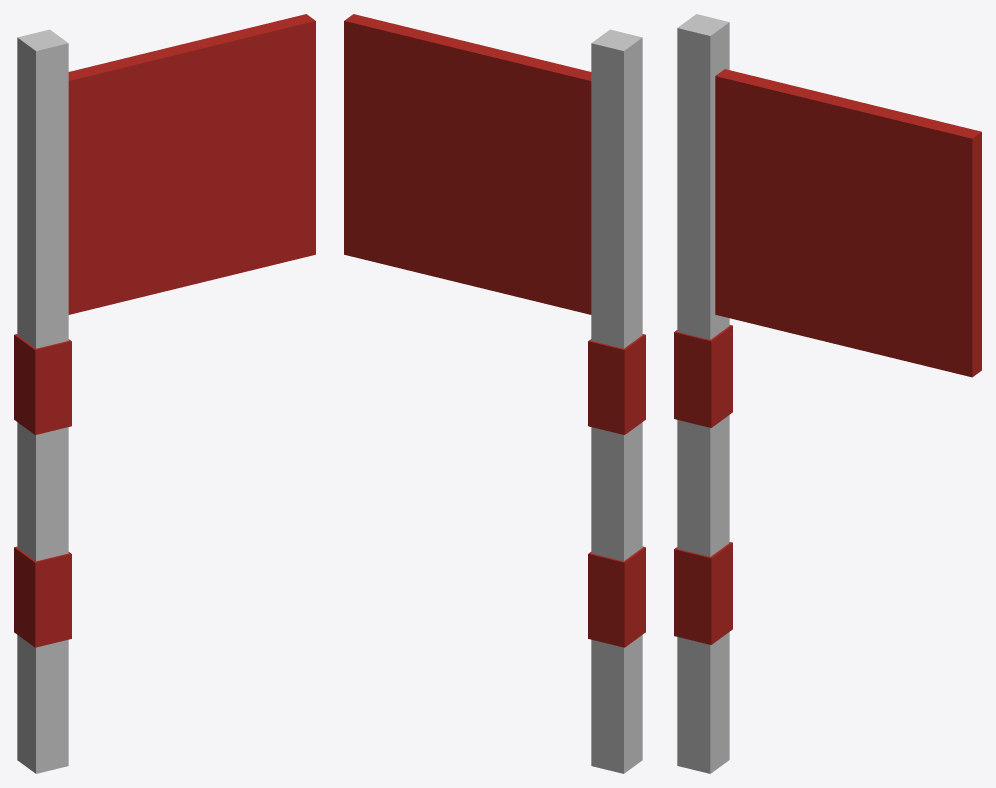
The model's file is ntu-red-flag.glb.
3 renders of one model, left to right at view 1: azimuth 30°, elevation 25°; view 2: azimuth 150°, elevation 25°; view 3: azimuth 330°, elevation 25°, orthographic. The views are drawn at different scales.
Visible parts, largest first — view 1: box-prop; view 2: box-prop; view 3: box-prop.
Part boxes in pixels (x1=…): box-prop: x1=14, y1=14, x2=315, y2=773; box-prop: x1=344, y1=14, x2=645, y2=773; box-prop: x1=674, y1=14, x2=981, y2=773.
Size of the model in its own units: 0.705 by 1.7 by 0.09.
